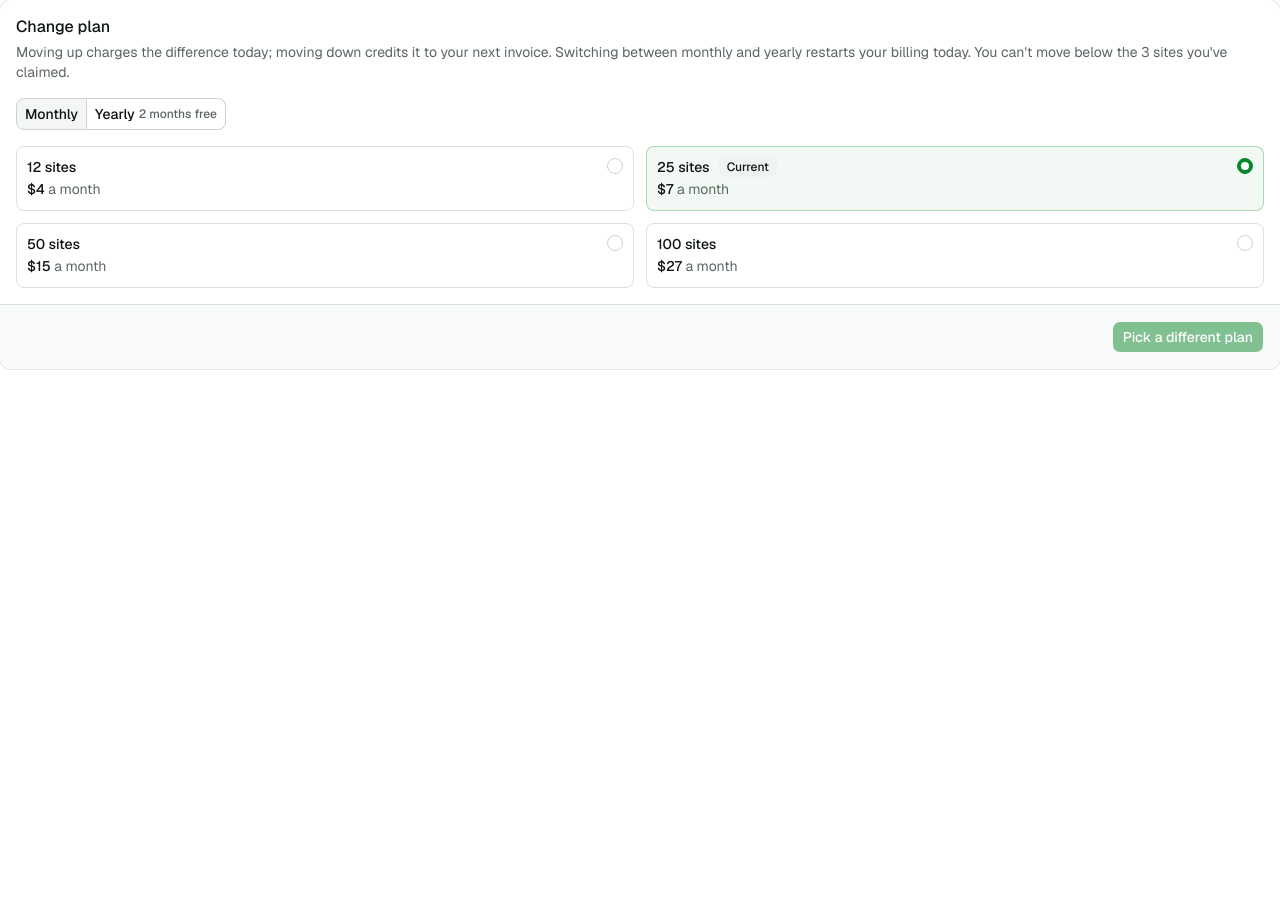
Test: PlanChooser, a live plan › says a switch between monthly and yearly restarts the billing period
The width and height of the screenshot is (1280, 900).
Click the button "Yearly 2 months free": coordinates (157, 114) [87, 98, 226, 130]
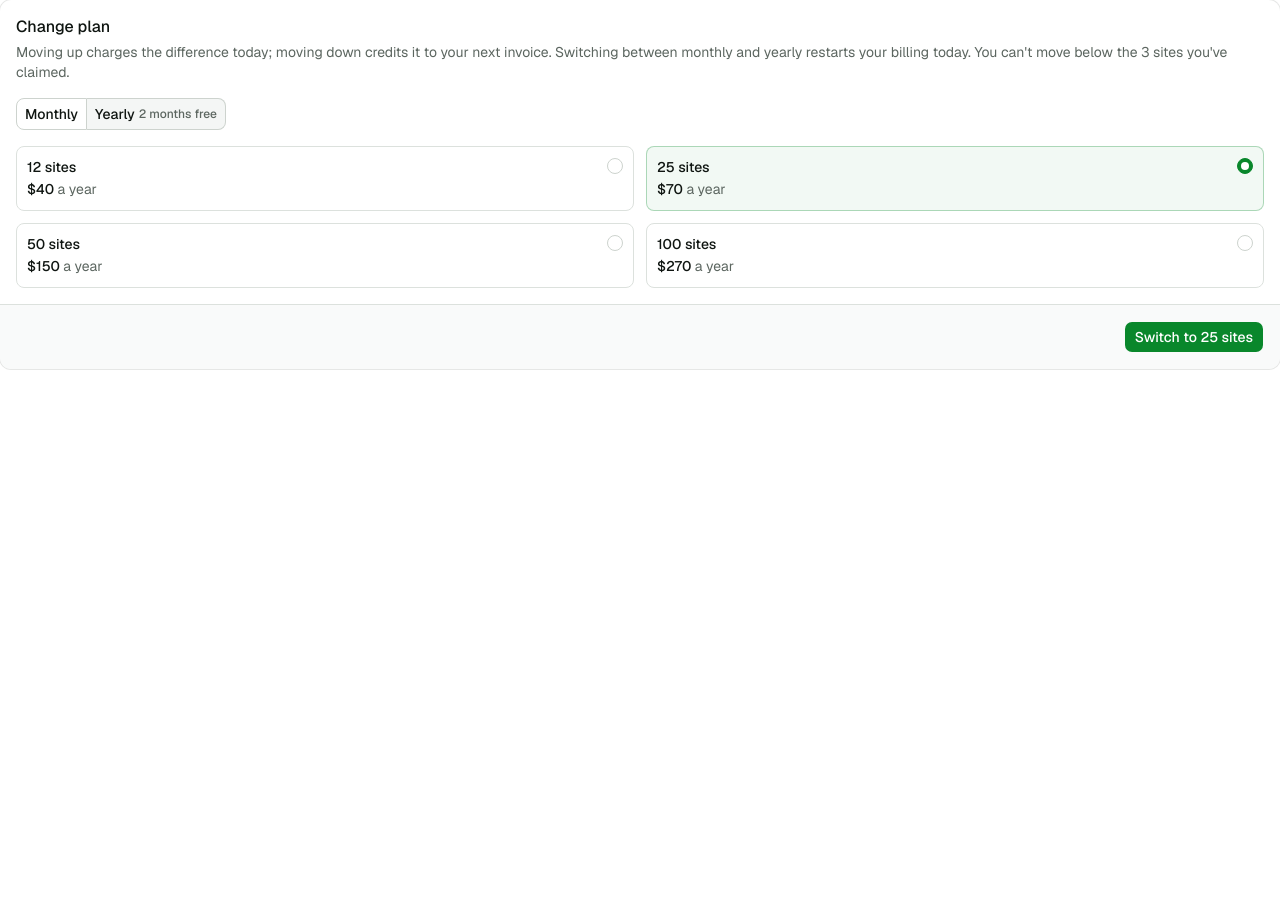
Click the radio button in the row of "12": coordinates (615, 166) [607, 158, 623, 174]
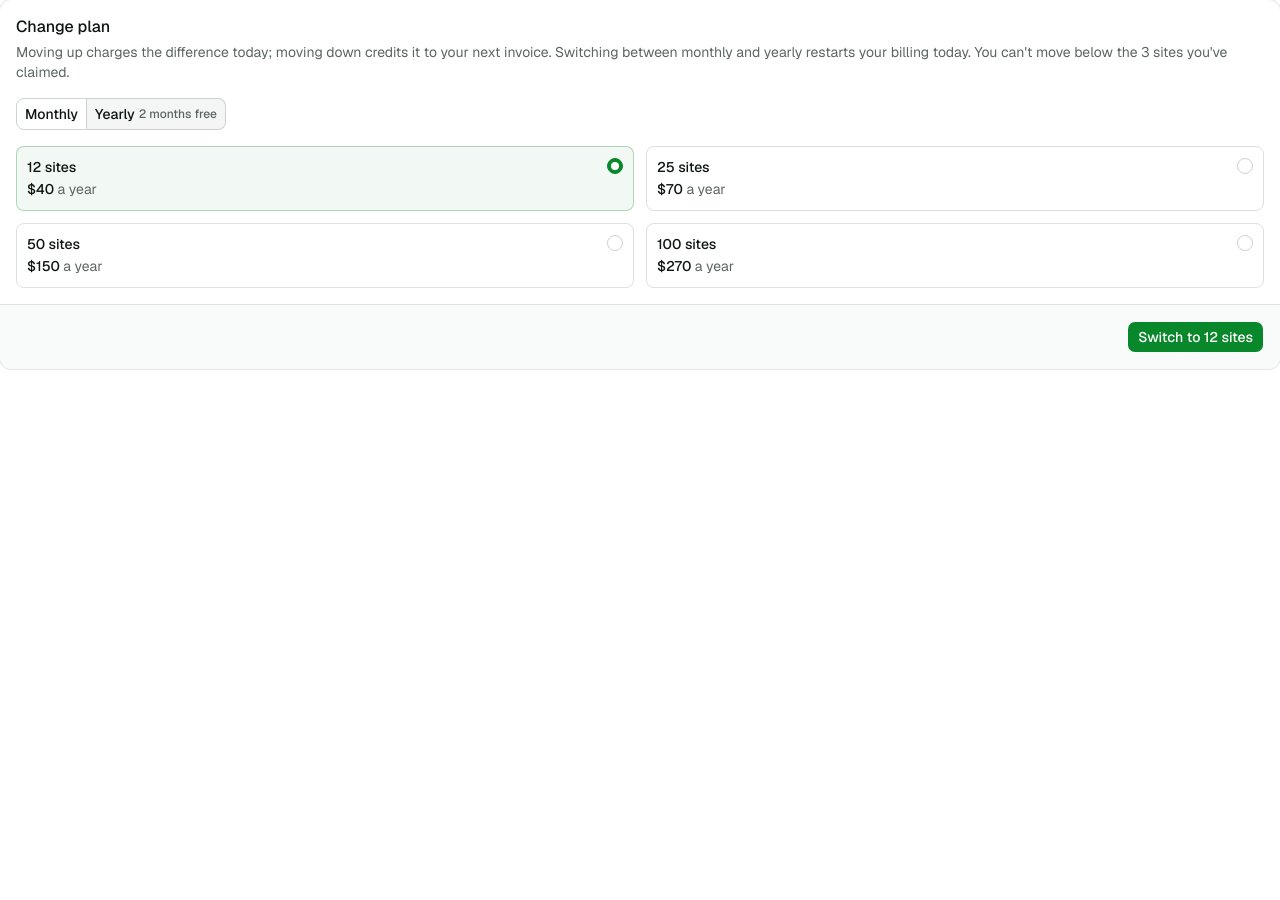
Click the button "Switch to 12 sites": coordinates (1196, 337) [1127, 321, 1264, 353]
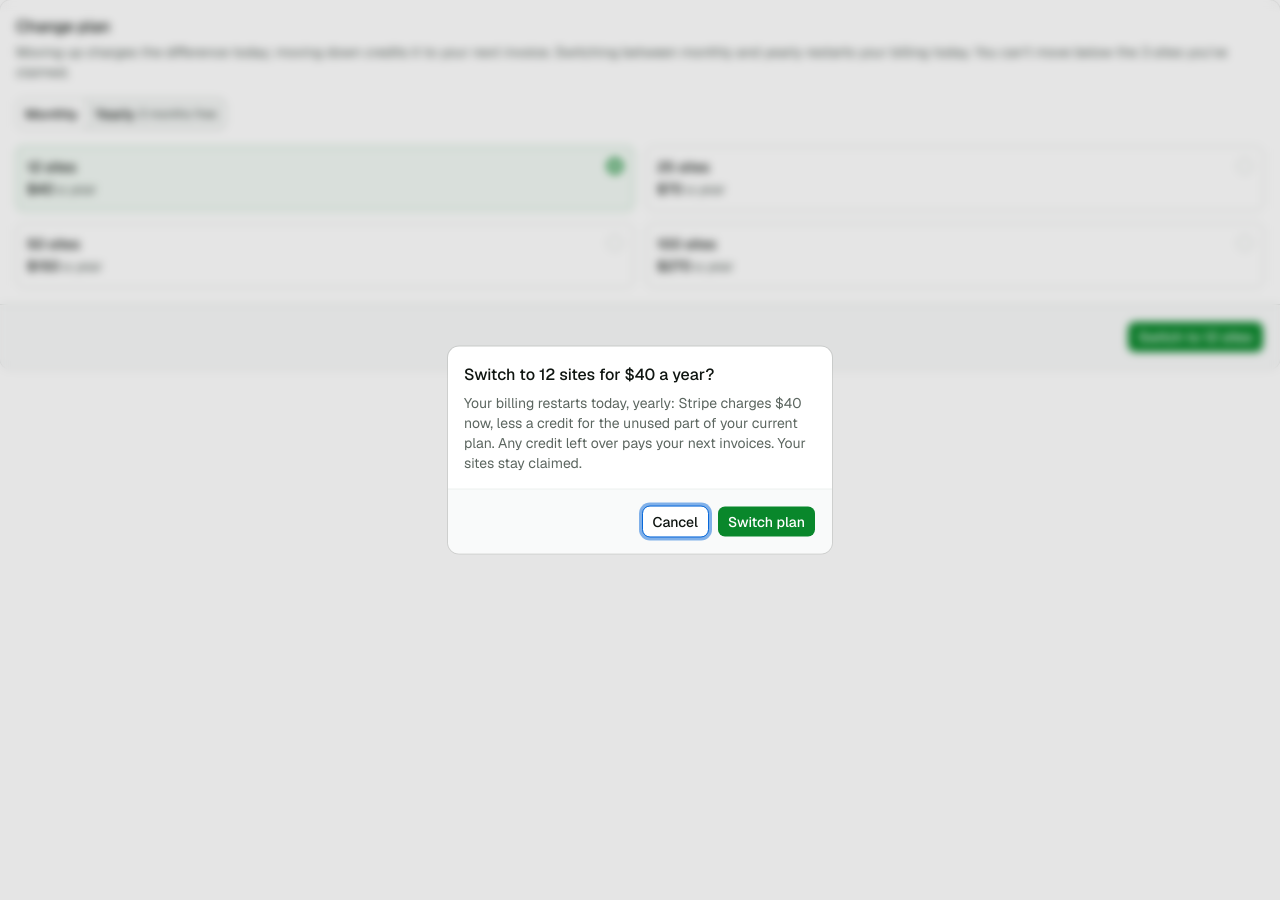
Expected: the text "Your billing restarts today, yearly: Stripe charges $40 now" is shown, [464, 394, 806, 472]
